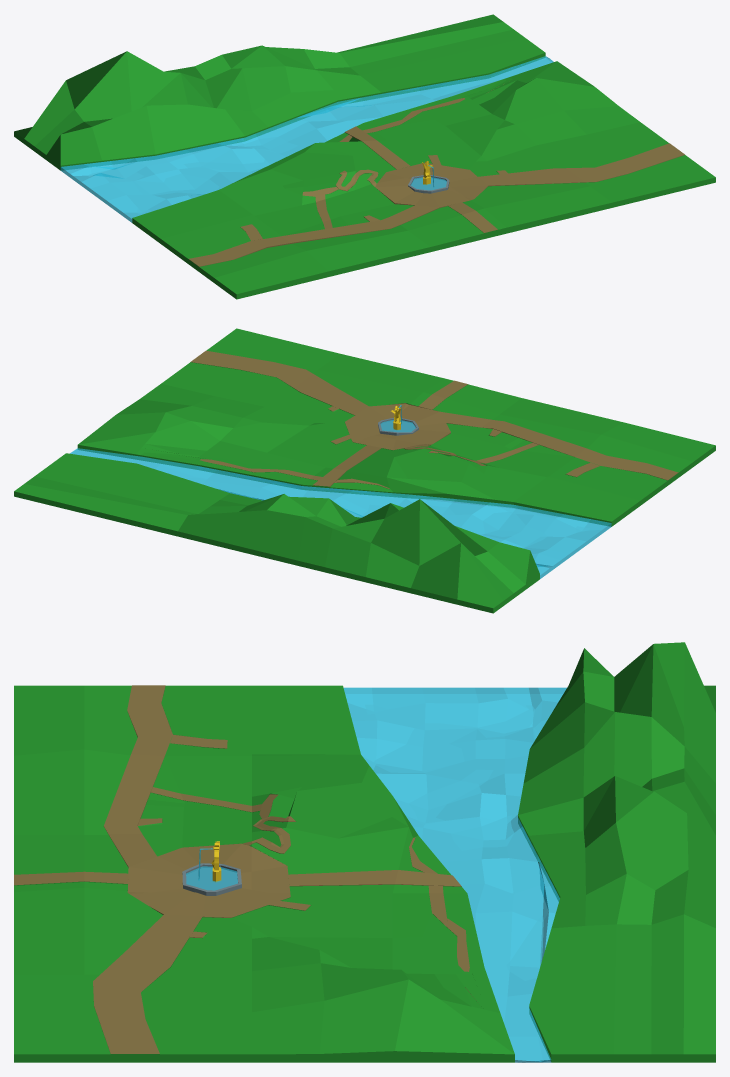
File: Downtown Terrain and Fountain.fbx
3 views of the same model, one above another, from view 1: azimuth 30°, elevation 25°; view 2: azimuth 150°, elevation 25°; view 3: azimuth 270°, elevation 25° (orthographic). The views are drawn at different scales.
Parts seen in each view (by area): view 1: Plane.064, Plane.065; view 2: Plane.064, Plane.065; view 3: Plane.064, Plane.065.
Boxes of the visible parts, bbox=[...] form: Plane.064: bbox=[14, 14, 715, 299]; Plane.065: bbox=[408, 175, 449, 193]; Plane.064: bbox=[14, 328, 715, 613]; Plane.065: bbox=[378, 418, 418, 435]; Plane.064: bbox=[14, 642, 715, 1062]; Plane.065: bbox=[182, 863, 241, 895].
Bounding box in the file's own units: 19260 × 3191 × 15443.
